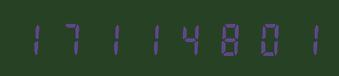eight: (207, 20, 244, 56)
four: (169, 20, 206, 56)
one: (17, 20, 54, 56), (93, 20, 130, 56), (131, 20, 168, 56), (283, 20, 320, 56)
seven: (55, 20, 92, 56)
zero: (245, 20, 282, 56)
